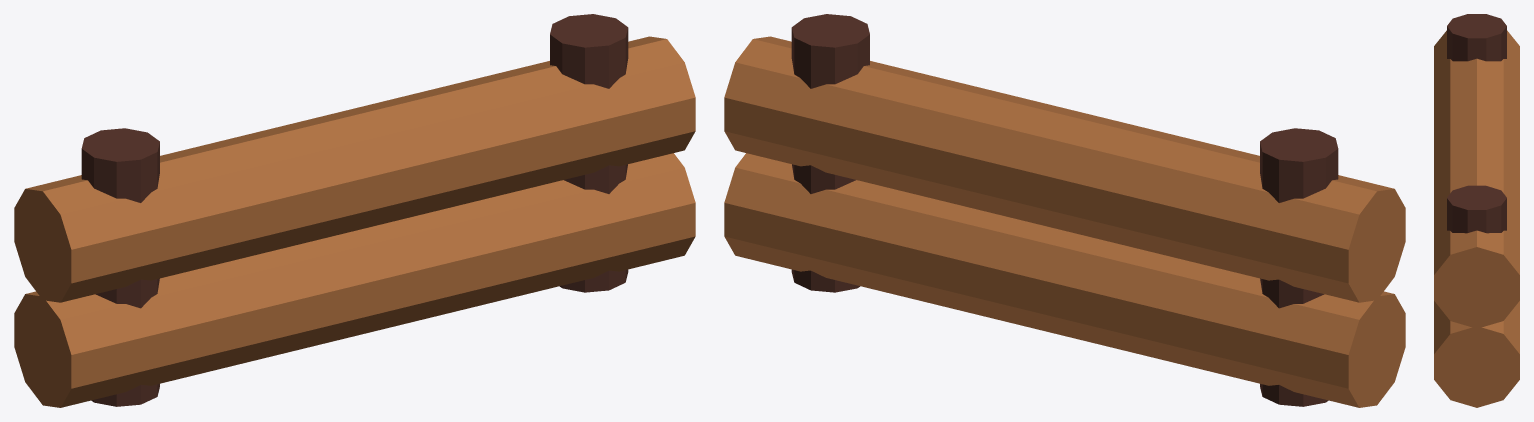
3 renders of one model, left to right at view 1: azimuth 30°, elevation 25°; view 2: azimuth 150°, elevation 25°; view 3: azimuth 270°, elevation 25°, orthographic. The views are drawn at different scales.
Parts seen in each view (by area): view 1: root_pal_woodWarm, root_pal_hairBrown; view 2: root_pal_woodWarm, root_pal_hairBrown; view 3: root_pal_woodWarm, root_pal_hairBrown.
Boxes of the visible parts, x1=… form: root_pal_woodWarm: x1=14, y1=36, x2=695, y2=407; root_pal_hairBrown: x1=81, y1=14, x2=628, y2=406; root_pal_woodWarm: x1=724, y1=36, x2=1405, y2=407; root_pal_hairBrown: x1=791, y1=14, x2=1338, y2=406; root_pal_woodWarm: x1=1434, y1=30, x2=1519, y2=407; root_pal_hairBrown: x1=1447, y1=14, x2=1506, y2=233.
Size of the model in its own units: 3.6 by 1.35 by 0.5706.
